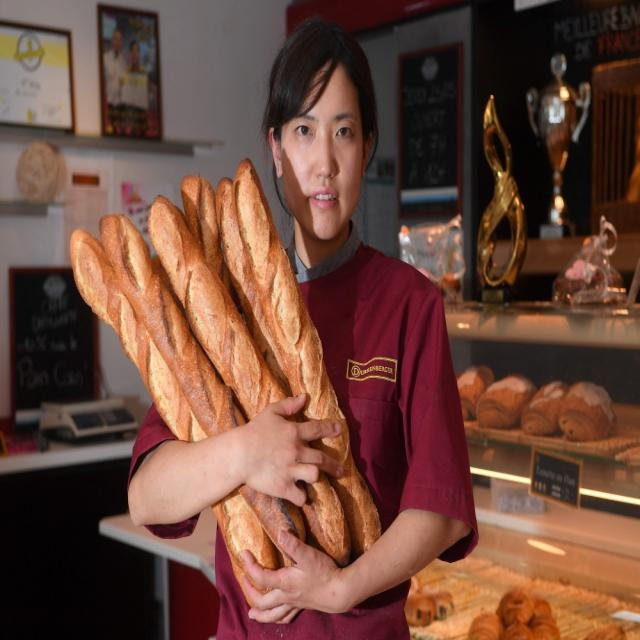Baguette: (234, 160, 379, 554), (100, 213, 246, 435), (150, 199, 291, 419), (70, 229, 207, 440), (212, 489, 287, 606), (301, 475, 350, 560), (243, 490, 289, 548)
